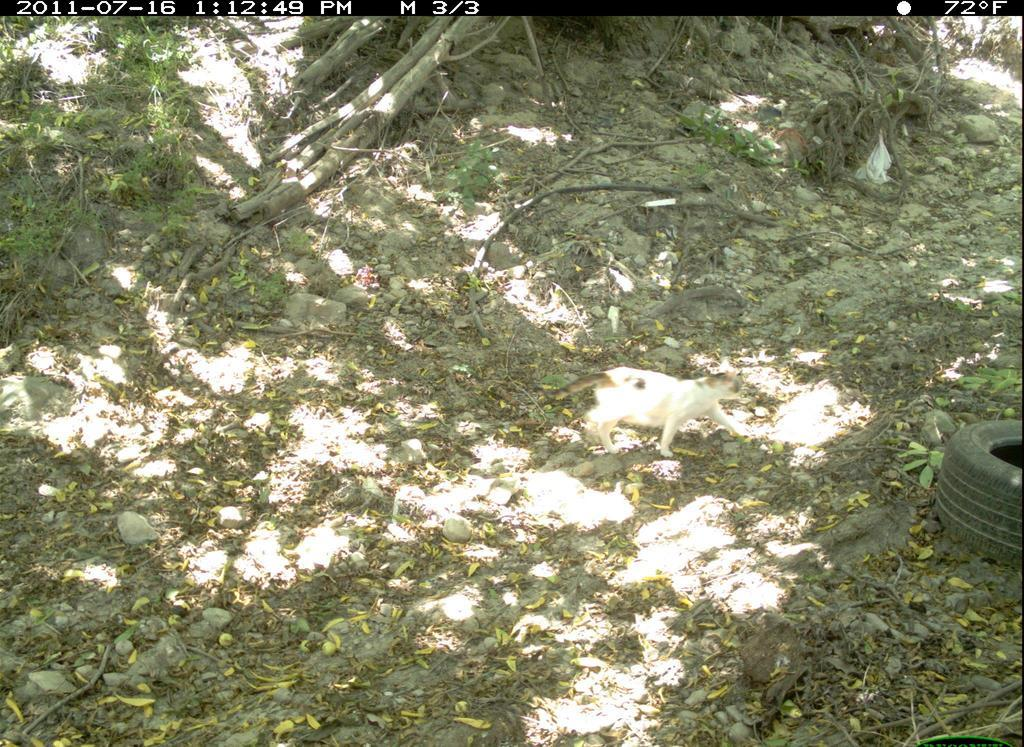cat: (539, 346, 772, 491)
